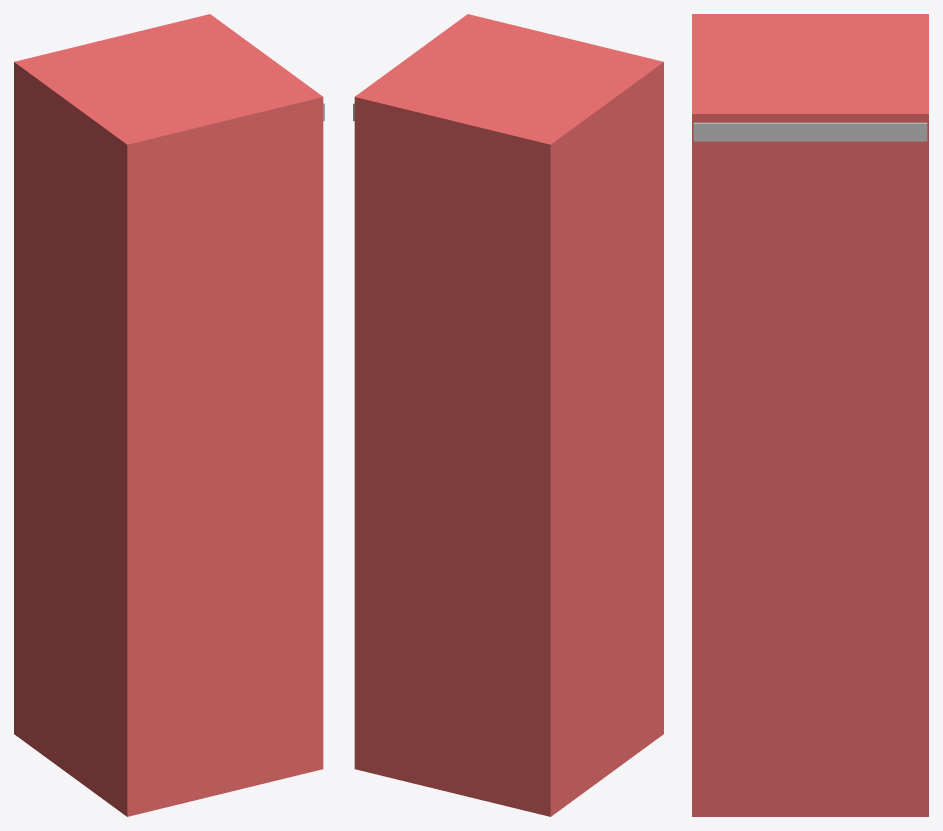
Rendered from prop_cupboard_01.glb.
3 views of the same model, side by side, from view 1: azimuth 30°, elevation 25°; view 2: azimuth 150°, elevation 25°; view 3: azimuth 270°, elevation 25° (orthographic). The views are drawn at different scales.
Parts seen in each view (by area): view 1: brush_box.009; view 2: brush_box.009; view 3: brush_box.009, prop_cupboard_01.
Part boxes in pixels (x1,y1,x2,y2): brush_box.009: [14, 14, 323, 816]; brush_box.009: [354, 14, 663, 816]; brush_box.009: [692, 14, 928, 816]; prop_cupboard_01: [693, 122, 927, 141].
Size of the model in its own units: 0.6122 by 1.98 by 0.6052.
